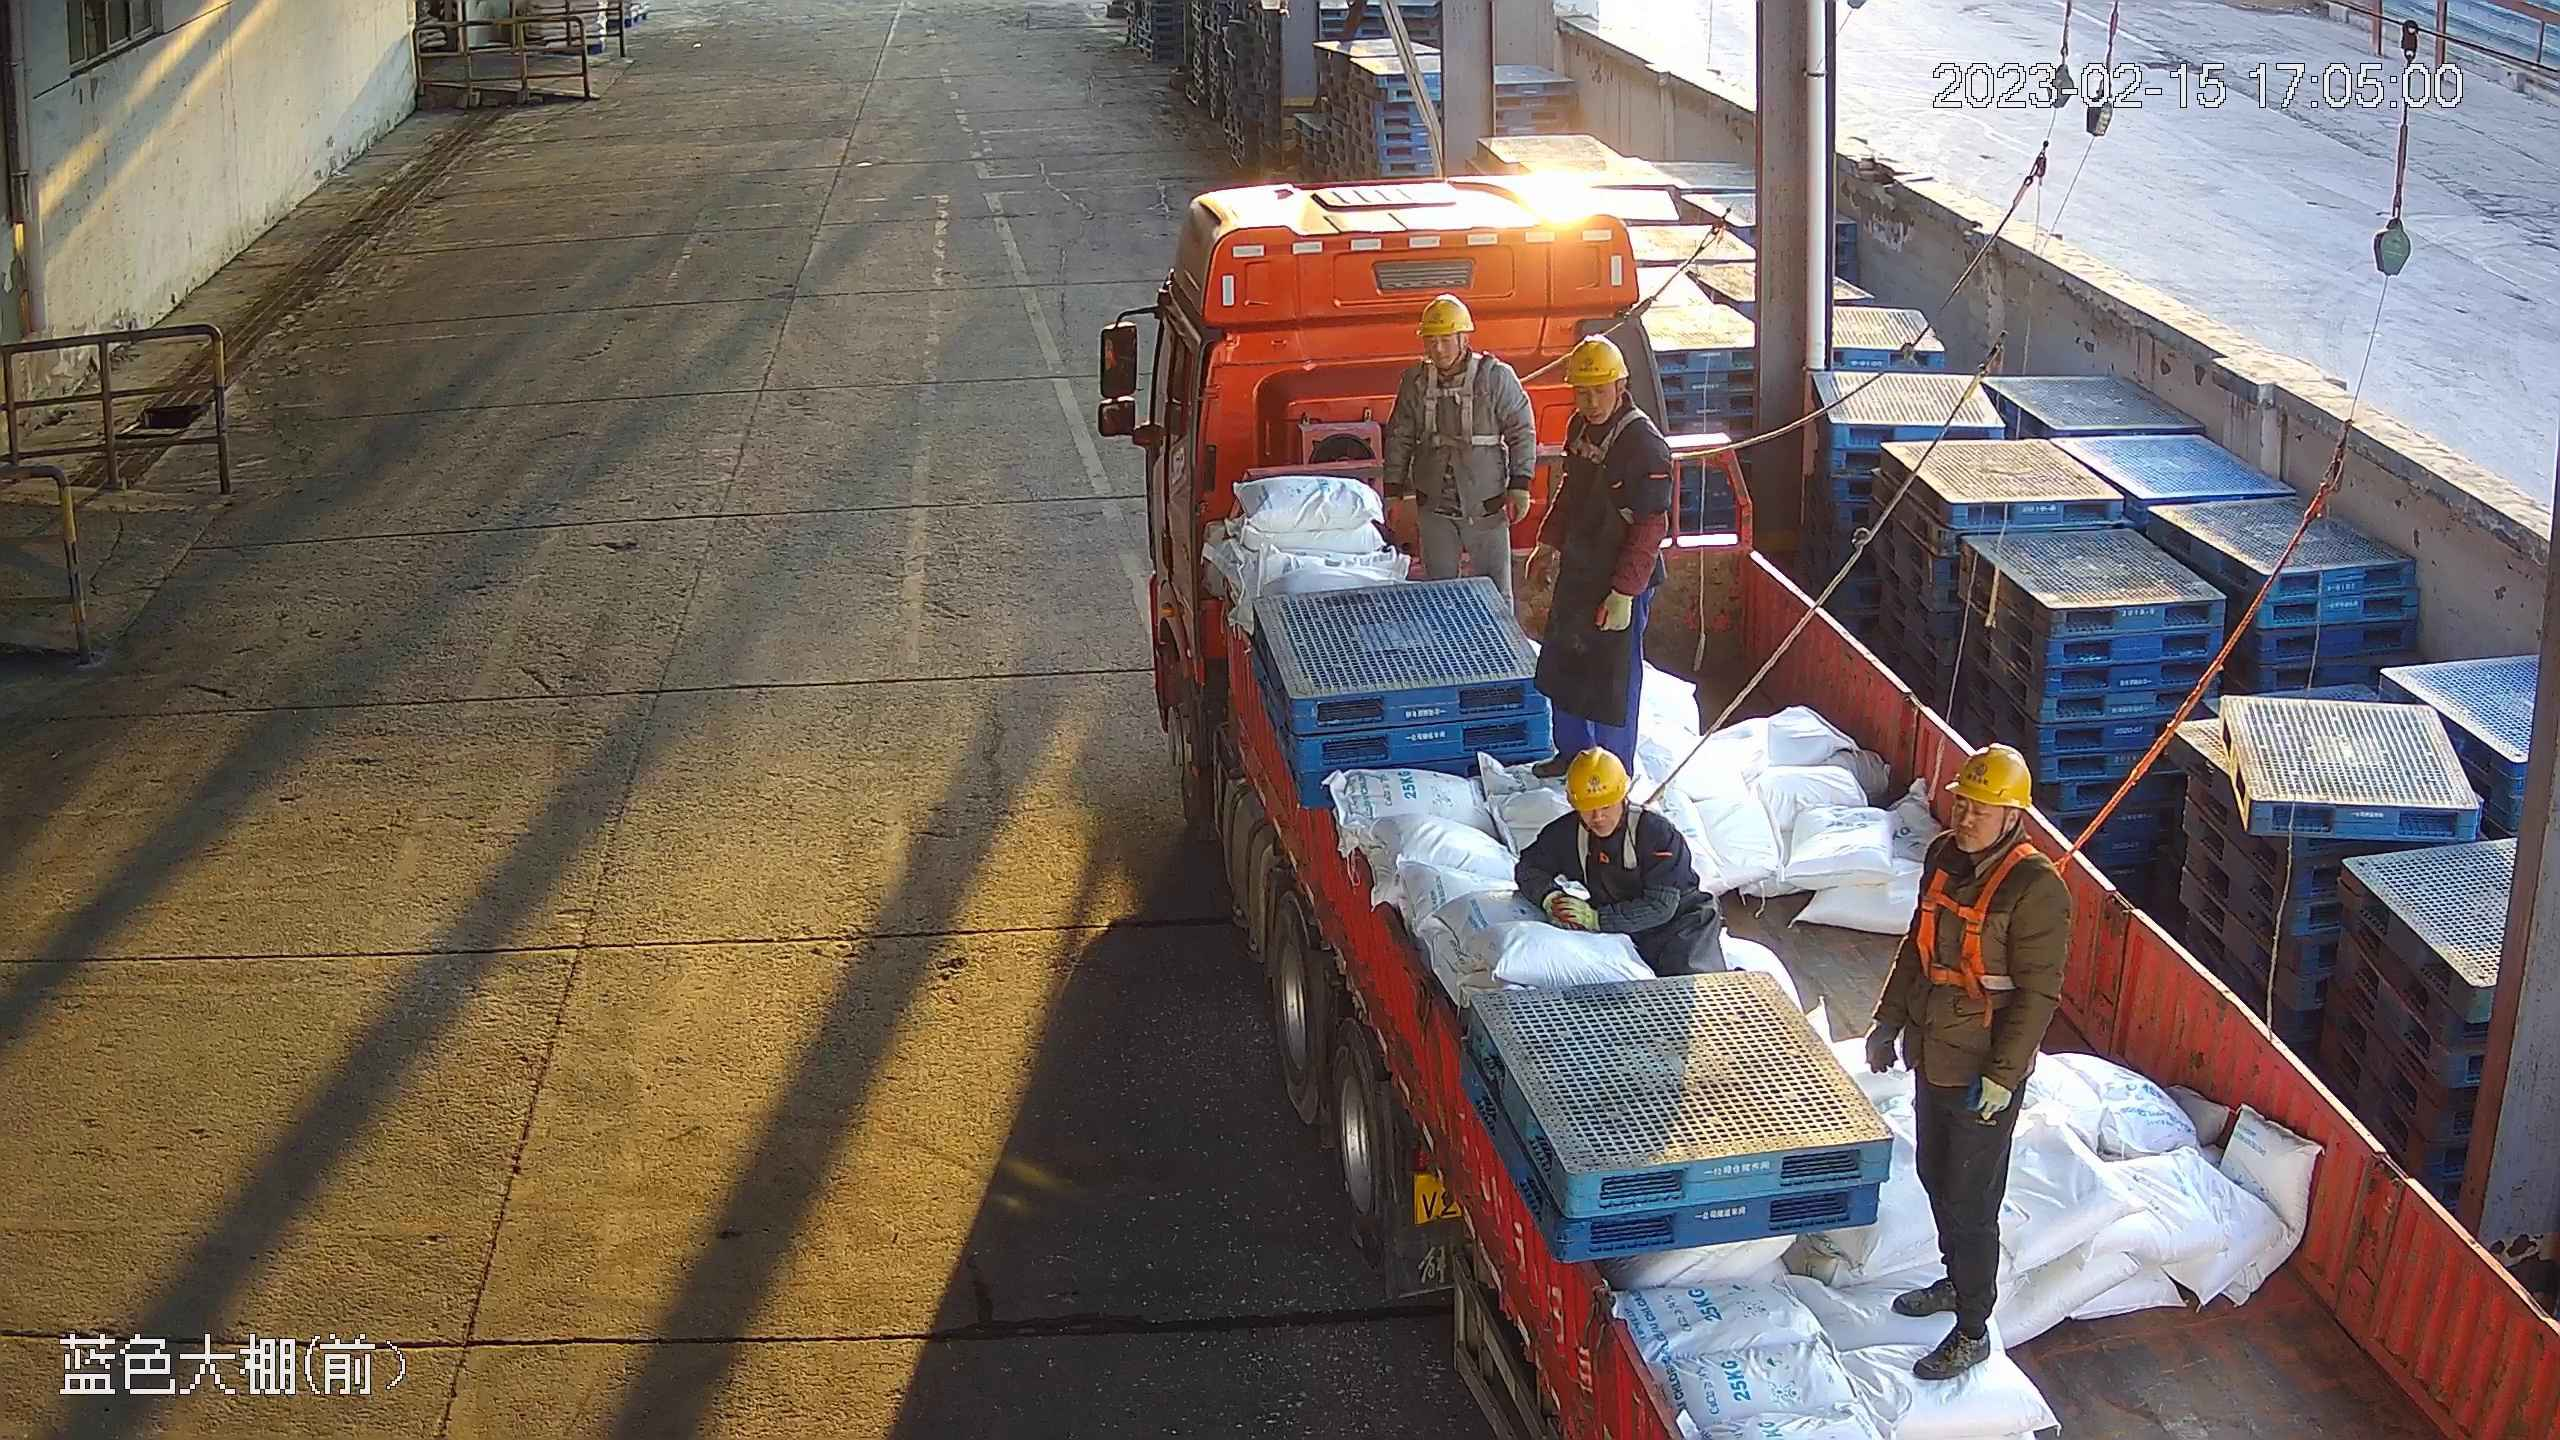belt: (1907, 835, 2079, 997), (1414, 355, 1503, 448), (1564, 806, 1673, 875), (1568, 421, 1671, 477)
head: (1921, 739, 2072, 921), (1530, 745, 1694, 862), (1558, 333, 1676, 461), (1400, 293, 1516, 394)
helmet: (1942, 740, 2032, 811), (1565, 746, 1630, 812), (1562, 333, 1629, 388), (1416, 292, 1476, 336)
people: (1863, 733, 2076, 1379), (1524, 334, 1673, 779), (1514, 745, 1731, 979), (1379, 291, 1535, 613)
truck: (1139, 167, 2560, 1440)
